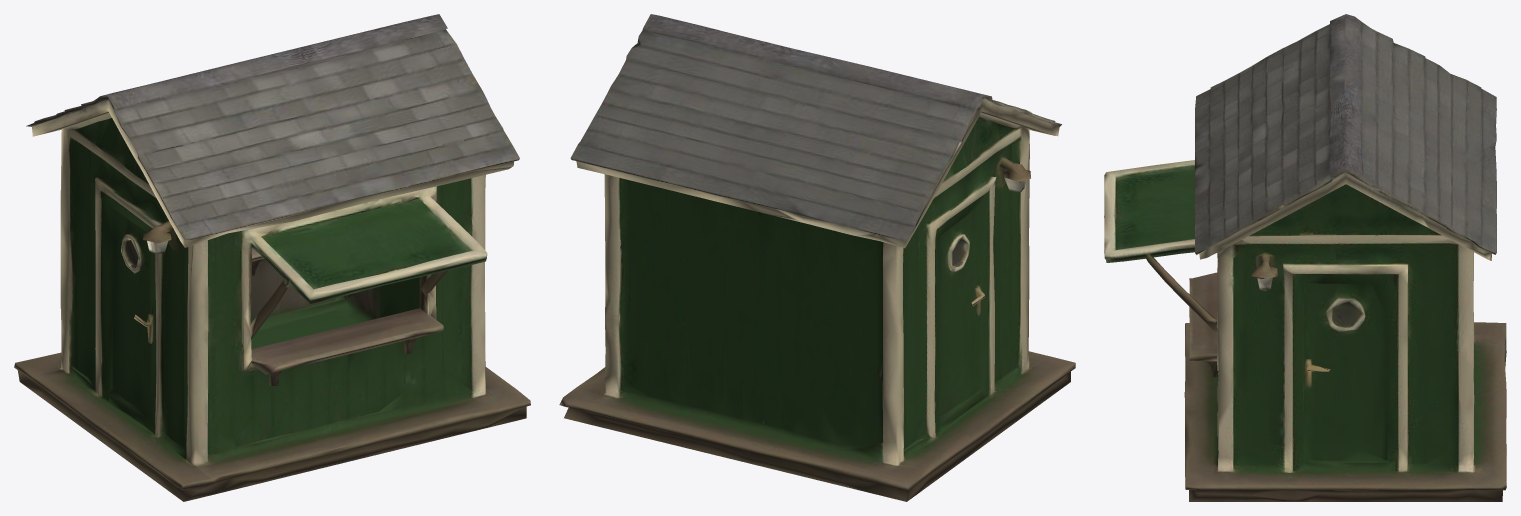
Rendered from kiosk_small.glb.
The picture shows the model from 3 angles, left to right: view 1: azimuth 30°, elevation 25°; view 2: azimuth 150°, elevation 25°; view 3: azimuth 270°, elevation 25°; orthographic projection. The views are drawn at different scales.
Visible parts, largest first — view 1: tripo_node_d280e398-e8bb-4419-b982-743b30b20315; view 2: tripo_node_d280e398-e8bb-4419-b982-743b30b20315; view 3: tripo_node_d280e398-e8bb-4419-b982-743b30b20315.
Part boxes in pixels (left/top/right/bottom): tripo_node_d280e398-e8bb-4419-b982-743b30b20315: left=14, top=14, right=530, bottom=501; tripo_node_d280e398-e8bb-4419-b982-743b30b20315: left=559, top=14, right=1075, bottom=501; tripo_node_d280e398-e8bb-4419-b982-743b30b20315: left=1104, top=14, right=1506, bottom=501.
Bounding box in the file's own units: 0.9611 × 0.906 × 1.
Materials: 1 (1 with a texture image).
